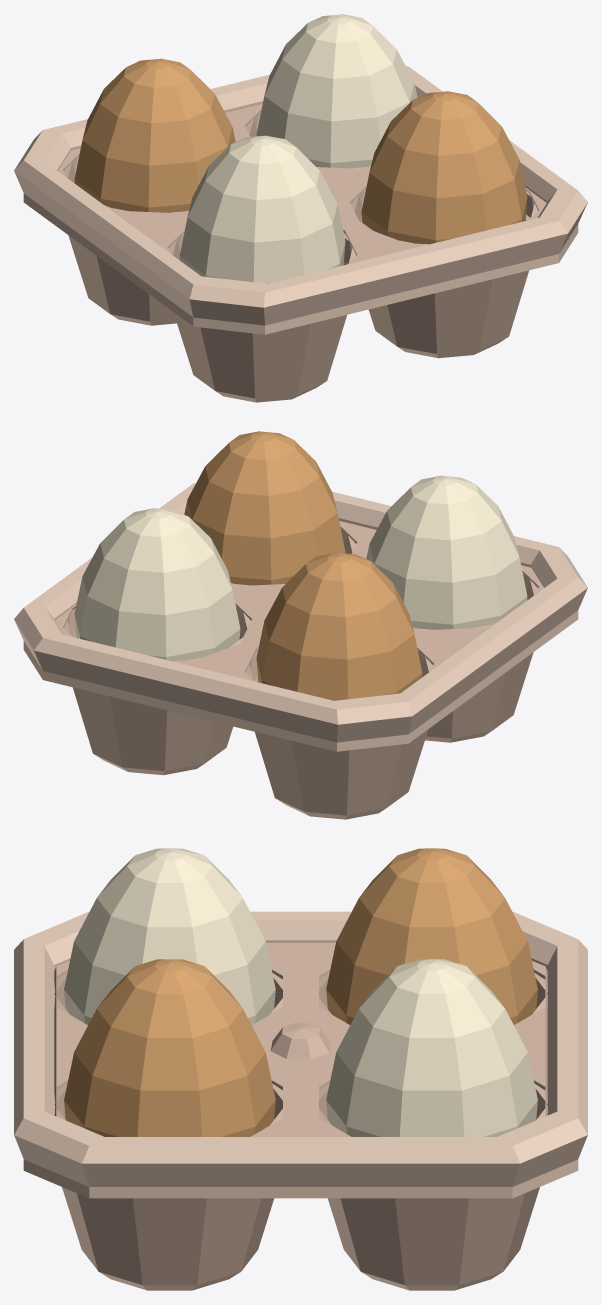
The model's file is 13-egg-tray.glb.
3 views of the same model, one above another, from view 1: azimuth 30°, elevation 25°; view 2: azimuth 150°, elevation 25°; view 3: azimuth 270°, elevation 25° (orthographic). The views are drawn at different scales.
Parts seen in each view (by area): view 1: 01 Four cup molded egg tray, Egg 2 - brown, Egg 1 - ivory, Egg 3 - brown, Egg 4 - ivory; view 2: 01 Four cup molded egg tray, Egg 4 - ivory, Egg 3 - brown, Egg 1 - ivory, Egg 2 - brown; view 3: 01 Four cup molded egg tray, Egg 2 - brown, Egg 4 - ivory, Egg 1 - ivory, Egg 3 - brown.
Boxes of the visible parts, x1,y1,x2,y2 form: 01 Four cup molded egg tray: (14, 66, 587, 402); Egg 2 - brown: (361, 91, 527, 244); Egg 1 - ivory: (179, 135, 345, 283); Egg 3 - brown: (74, 58, 235, 212); Egg 4 - ivory: (256, 14, 417, 168); 01 Four cup molded egg tray: (14, 483, 587, 819); Egg 4 - ivory: (74, 508, 240, 661); Egg 3 - brown: (256, 552, 422, 700); Egg 1 - ivory: (366, 475, 527, 629); Egg 2 - brown: (184, 431, 345, 585); 01 Four cup molded egg tray: (14, 911, 587, 1290); Egg 2 - brown: (64, 959, 275, 1136); Egg 4 - ivory: (326, 959, 537, 1136); Egg 1 - ivory: (64, 848, 275, 1024); Egg 3 - brown: (326, 848, 537, 1024).
Size of the model in its own units: 2.28 by 1.31 by 2.28.
